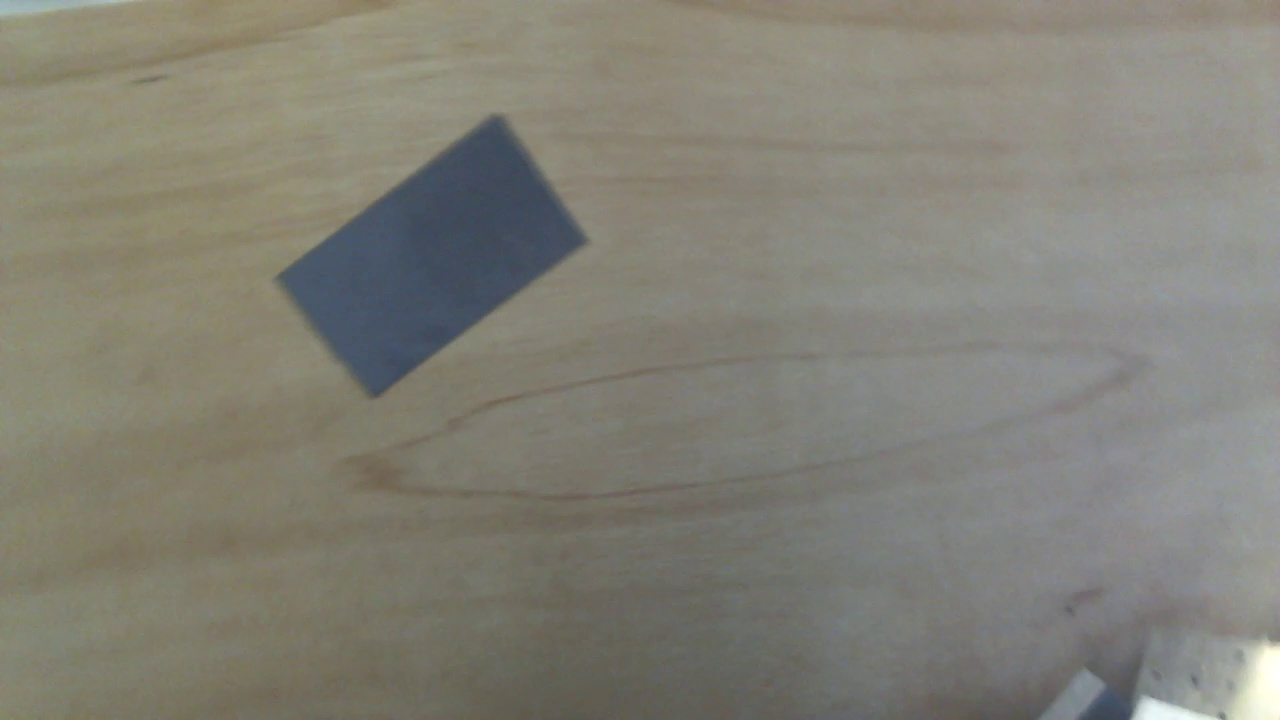Tape: (273, 116, 593, 402)
